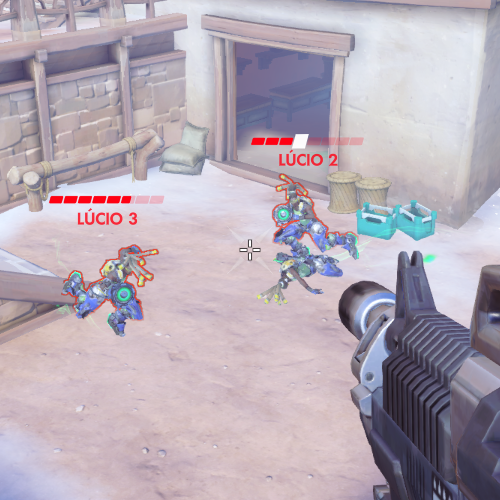hpbar: (48, 195, 165, 205), (251, 137, 364, 146)
